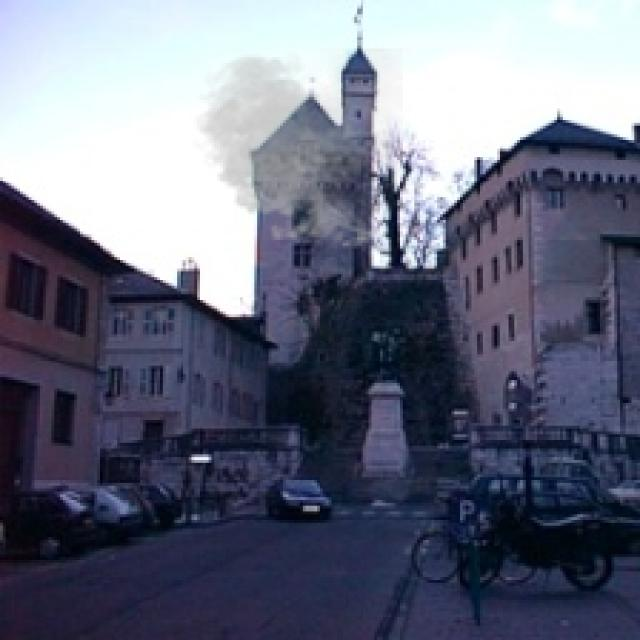smoke: (188, 49, 403, 254)
